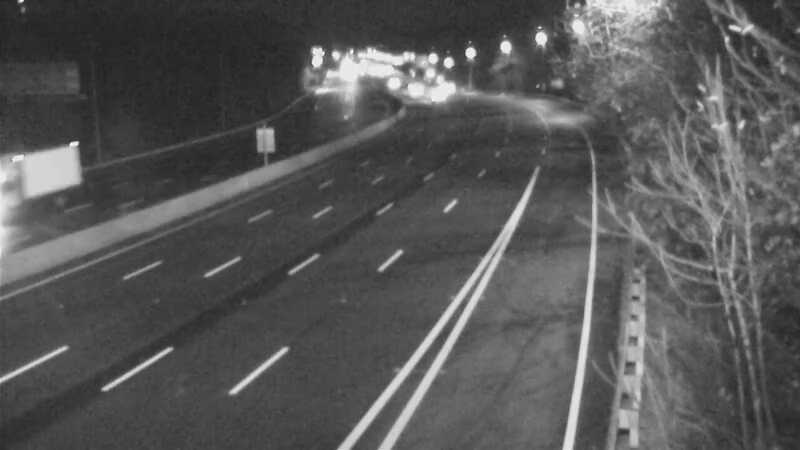vehicle: (12, 144, 92, 224), (370, 56, 420, 106), (391, 68, 441, 118), (419, 69, 469, 119), (400, 75, 450, 125)
